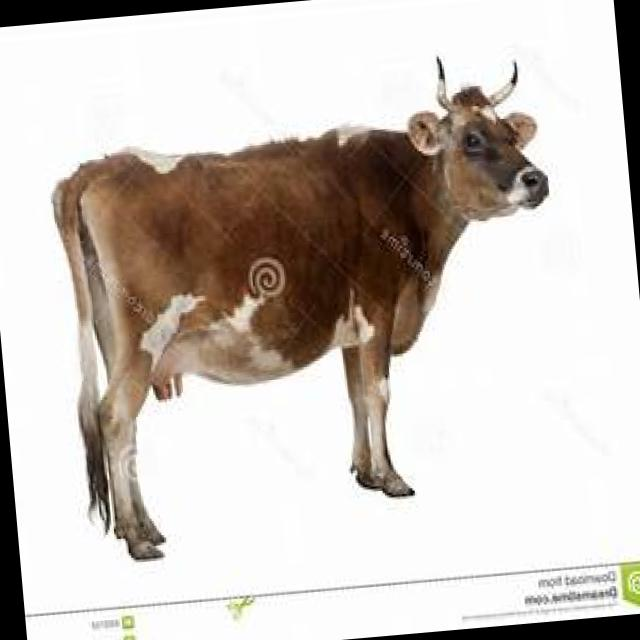animal: (42, 45, 580, 564)
